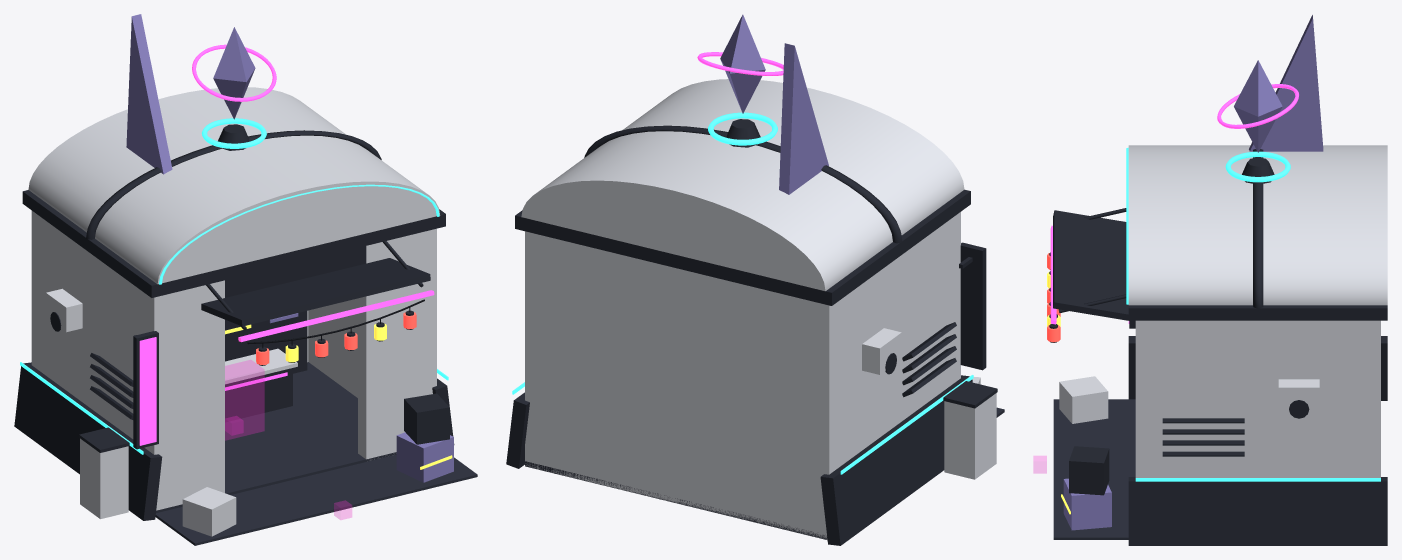
The model's file is AAT_AegisShop.glb.
3 renders of one model, left to right at view 1: azimuth 30°, elevation 25°; view 2: azimuth 150°, elevation 25°; view 3: azimuth 270°, elevation 25°, orthographic. The views are drawn at different scales.
Parts seen in each view (by area): view 1: AegisShopDeco__pearl, AegisShopDeco__graphite, Wall_ShopLeft__pearl, Wall_ShopFrontL__pearl, Floor_Shop__floor, Wall_ShopFrontR__pearl, Floor_ShopApron__floor, Roof_Shop__graphite, Wall_ShopRight__pearl, AegisShopDeco__lavender, AegisShopDeco__magenta, MK_Station_AegisShop (+11 smaller); view 2: Wall_ShopBack__pearl, AegisShopDeco__pearl, AegisShopDeco__graphite, Wall_ShopLeft__pearl, Roof_Shop__graphite, AegisShopDeco__lavender, ShopShard__lavender, AegisShopDeco__bio, Wall_ShopRight__pearl, Wall_ShopFrontL__pearl, Floor_Shop__floor, ShopShardRing__magenta; view 3: AegisShopDeco__pearl, Wall_ShopRight__pearl, AegisShopDeco__graphite, Floor_ShopApron__floor, AegisShopDeco__lavender, Roof_Shop__graphite, AegisShopDeco__bio, ShopShard__lavender, Wall_CrateC__pearl, Wall_ShopBack__pearl, Wall_CrateB__graphite, Wall_CrateA__lavender (+1 smaller).
Part boxes in pixels (x1,y1,x2,y2): AegisShopDeco__pearl: [28, 87, 440, 519]; AegisShopDeco__graphite: [14, 124, 454, 520]; Wall_ShopLeft__pearl: [31, 212, 168, 506]; Wall_ShopFrontL__pearl: [146, 280, 224, 510]; Floor_Shop__floor: [156, 362, 396, 512]; Wall_ShopFrontR__pearl: [358, 232, 436, 460]; Floor_ShopApron__floor: [155, 454, 477, 545]; Roof_Shop__graphite: [22, 190, 445, 297]; Wall_ShopRight__pearl: [308, 228, 436, 397]; AegisShopDeco__lavender: [126, 14, 298, 323]; AegisShopDeco__magenta: [139, 290, 434, 445]; MK_Station_AegisShop: [225, 360, 264, 440]; Wall_ShopBack__pearl: [525, 231, 837, 539]; AegisShopDeco__pearl: [521, 79, 996, 479]; AegisShopDeco__graphite: [506, 119, 997, 545]; Wall_ShopLeft__pearl: [814, 212, 960, 539]; Roof_Shop__graphite: [515, 189, 970, 305]; AegisShopDeco__lavender: [779, 43, 828, 194]; ShopShard__lavender: [720, 14, 765, 113]; AegisShopDeco__bio: [512, 112, 973, 474]; Wall_ShopRight__pearl: [525, 235, 540, 469]; Wall_ShopFrontL__pearl: [952, 212, 960, 384]; Floor_Shop__floor: [525, 461, 827, 540]; ShopShardRing__magenta: [697, 52, 783, 75]; AegisShopDeco__pearl: [1128, 145, 1387, 412]; Wall_ShopRight__pearl: [1135, 320, 1380, 477]; AegisShopDeco__graphite: [1049, 149, 1387, 545]; Floor_ShopApron__floor: [1053, 399, 1135, 539]; AegisShopDeco__lavender: [1249, 15, 1323, 151]; Roof_Shop__graphite: [1128, 305, 1387, 320]; AegisShopDeco__bio: [1126, 147, 1380, 481]; ShopShard__lavender: [1234, 60, 1282, 152]; Wall_CrateC__pearl: [1059, 376, 1108, 423]; Wall_ShopBack__pearl: [1364, 320, 1380, 477]; Wall_CrateB__graphite: [1069, 446, 1109, 495]; Wall_CrateA__lavender: [1063, 478, 1111, 530].
Size of the model in its own units: 29.21 by 34.04 by 26.
